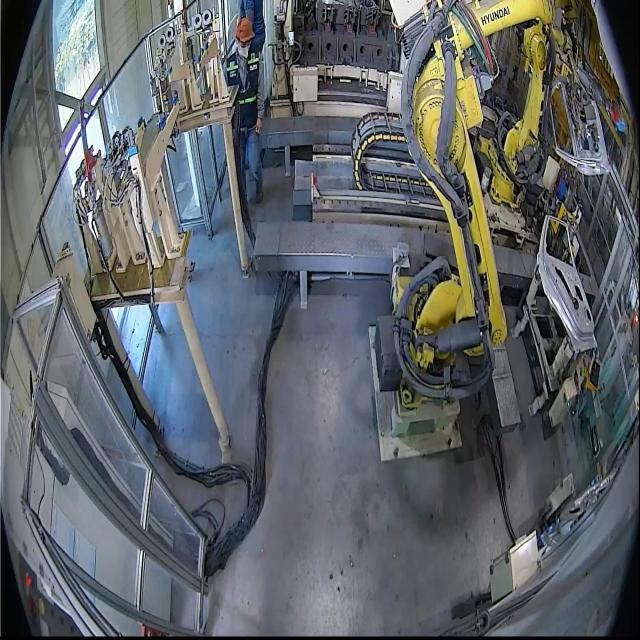Person: (223, 13, 265, 206), (238, 0, 268, 60)
